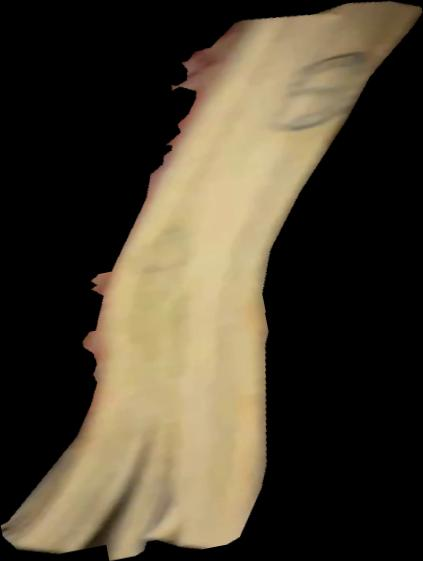backward: (1, 1, 423, 561)
